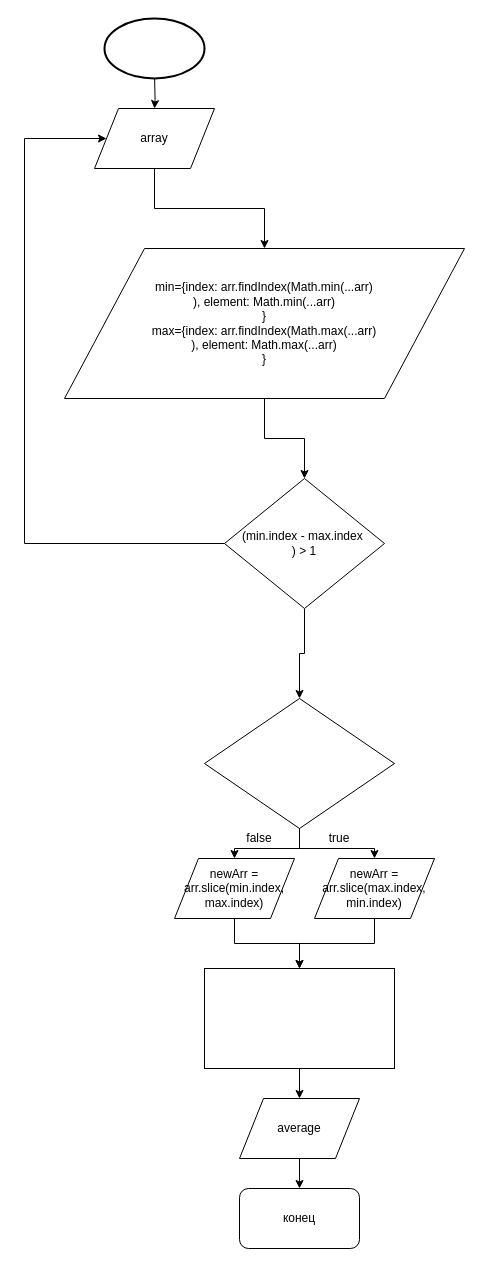
This 482x1266 diagram has some shape labels left out. Here are the shapes that lost their labels. From the top down, the centre of each, then its label:
At [154,48]: "начало".
At [299,763]: "min.index > max.index".
At [299,1018]: "average = newArr.reduce / newArr.length".
